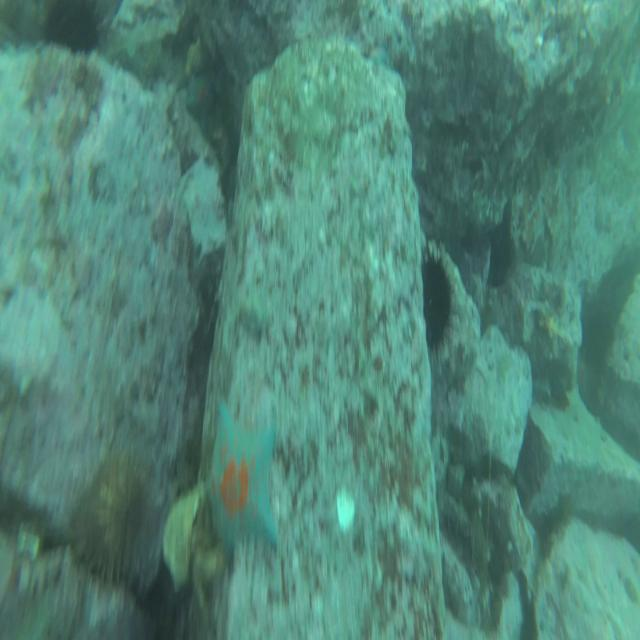echinus: (68, 442, 149, 586), (420, 246, 455, 352), (41, 0, 105, 50)
starfish: (202, 405, 280, 557)
